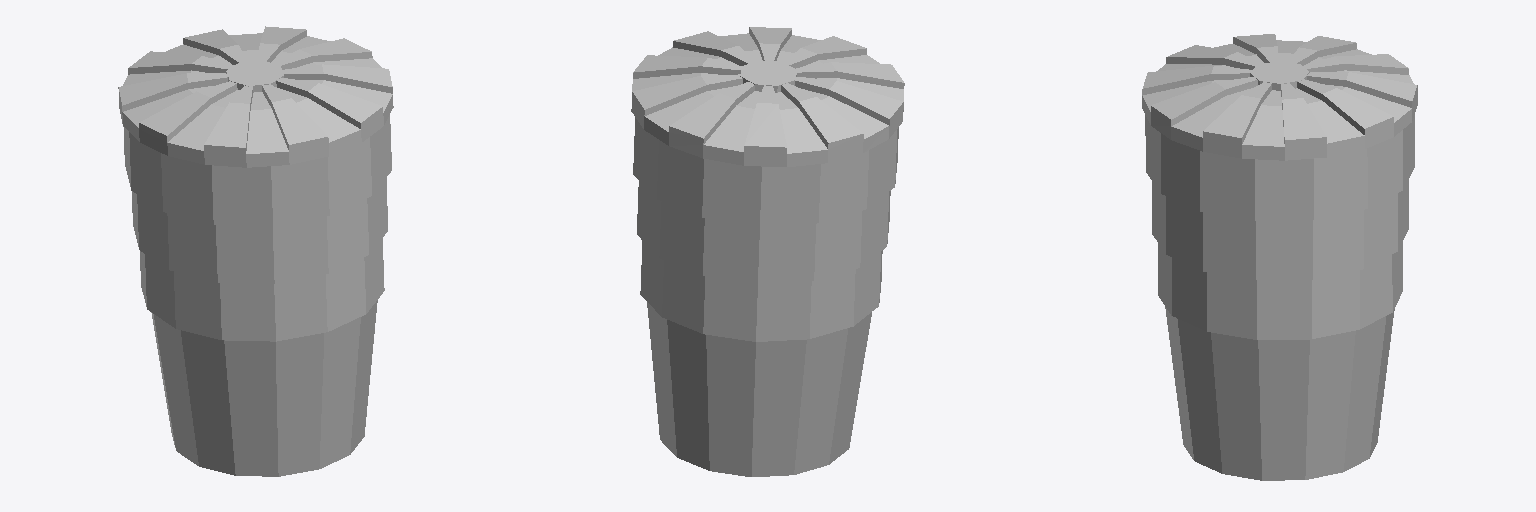
File: Road2_1_8.obj
3 renders of one model, left to right at view 1: azimuth 30°, elevation 25°; view 2: azimuth 150°, elevation 25°; view 3: azimuth 270°, elevation 25°, orthographic.
Parts seen in each view (by area): view 1: GSDRoadBarrel3_Rigid; view 2: GSDRoadBarrel3_Rigid; view 3: GSDRoadBarrel3_Rigid.
Boxes of the visible parts, <box> form: GSDRoadBarrel3_Rigid: <box>118,26,393,476</box>; GSDRoadBarrel3_Rigid: <box>631,27,904,476</box>; GSDRoadBarrel3_Rigid: <box>1142,34,1417,480</box>.
Size of the model in its own units: 0.9216 by 1.36 by 0.9196.